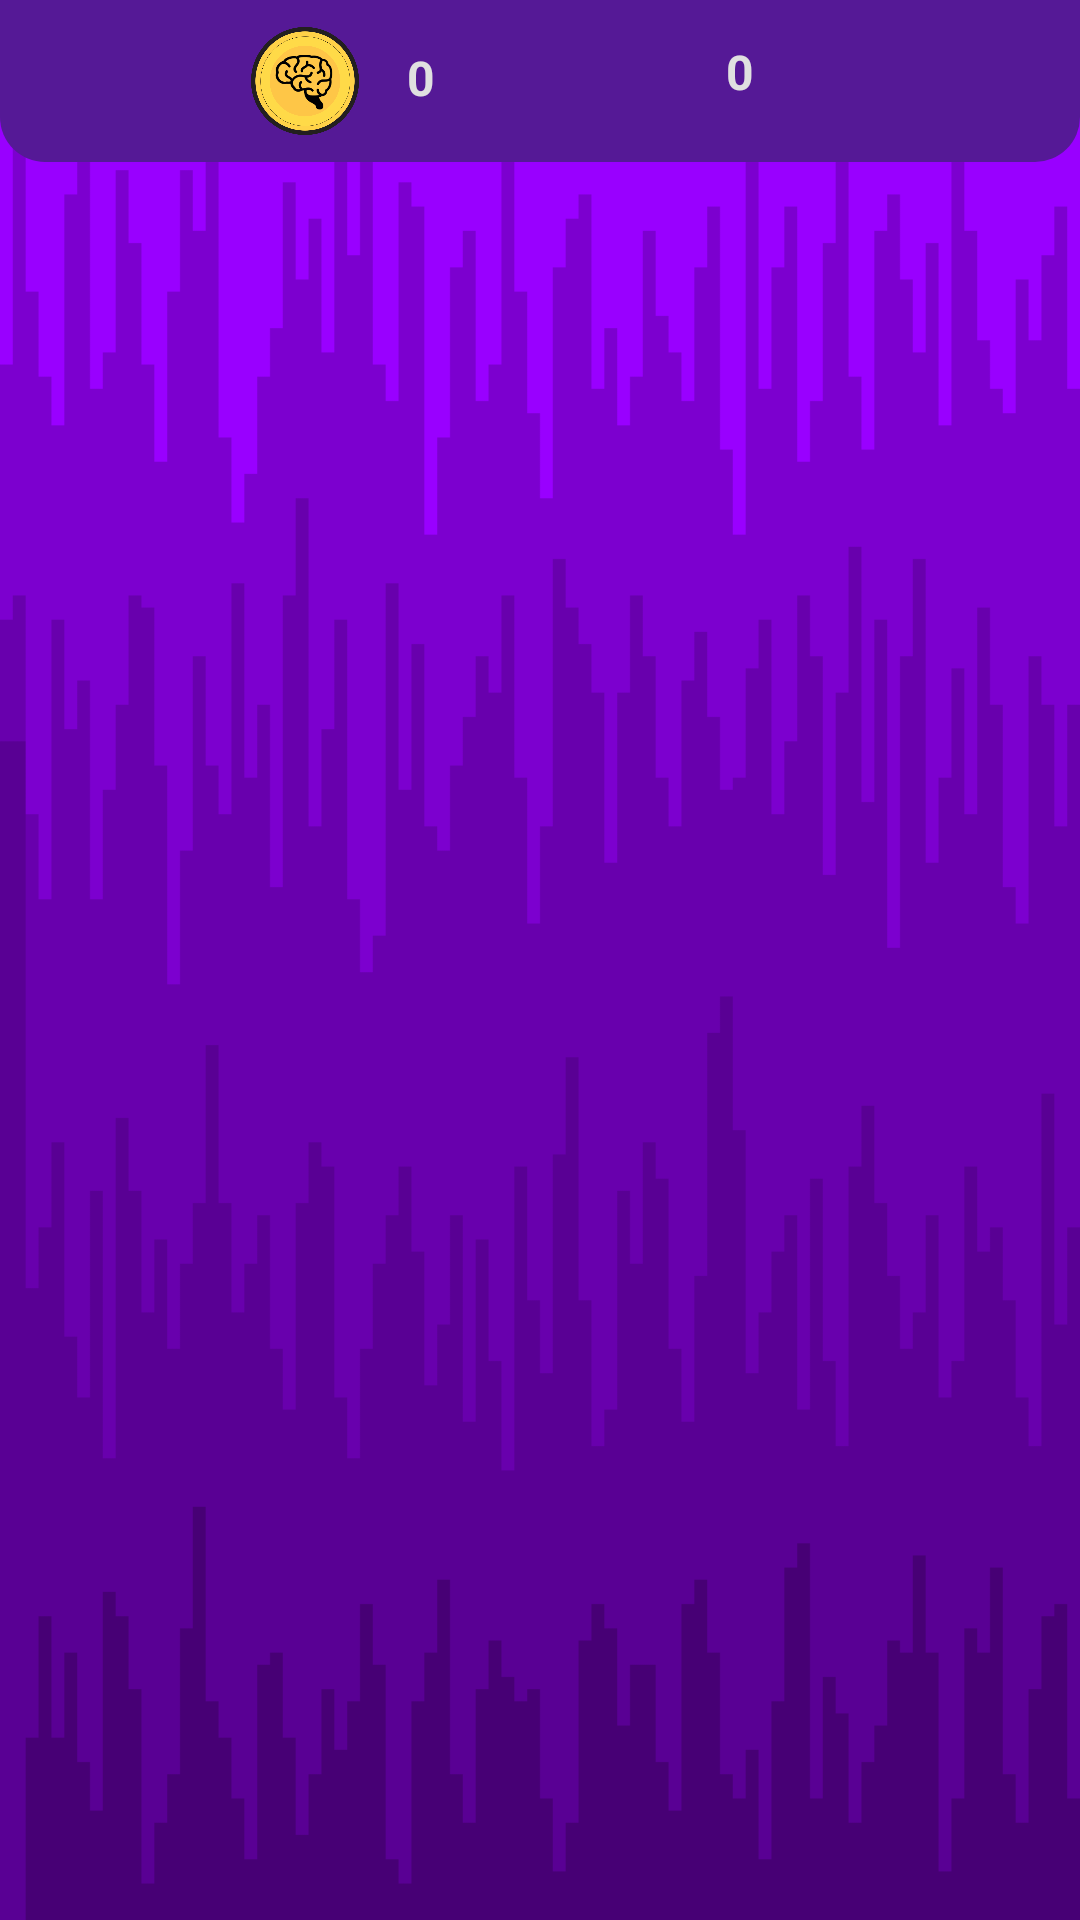

Point at icon controls on the screen. Image size 1080px×1920px, points as [x,y].
braincoin: [305,81]
